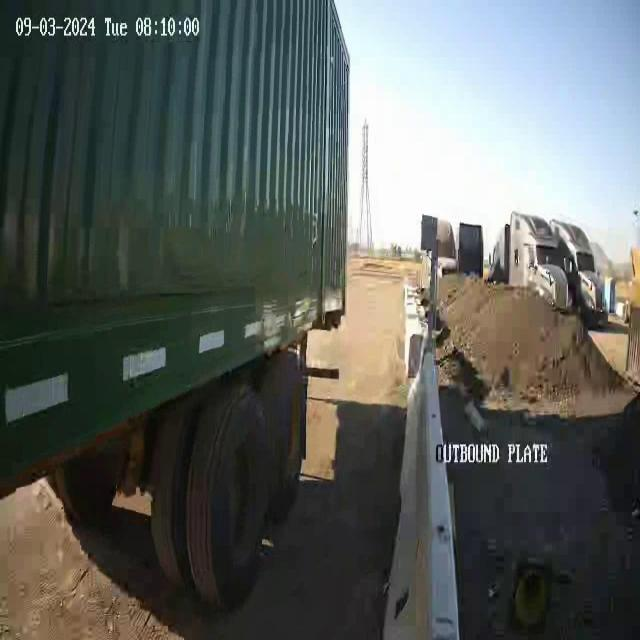CONTAINER: (1, 1, 347, 483)
